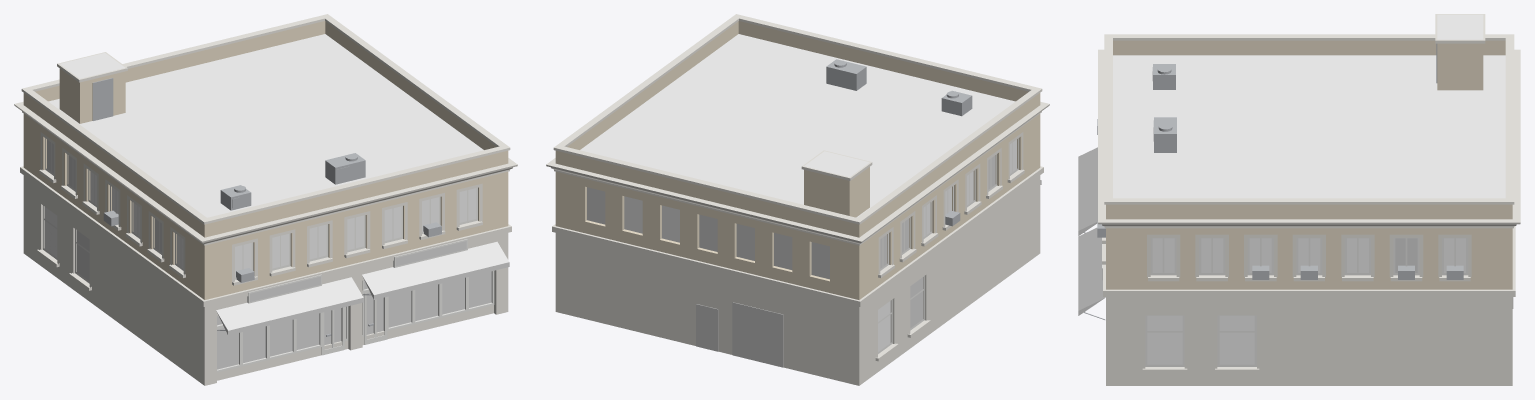
Rendered from midtown_w60f1b.glb.
3 renders of one model, left to right at view 1: azimuth 30°, elevation 25°; view 2: azimuth 150°, elevation 25°; view 3: azimuth 270°, elevation 25°, orthographic. The views are drawn at different scales.
Visible parts, largest first — view 1: midtown_w60f1b_Roof, midtown_w60f1b_Trim, midtown_w60f1b_Walls, midtown_w60f1b_WindowsLit, midtown_w60f1b_Awning, midtown_w60f1b_Frames, midtown_w60f1b_Glass, midtown_w60f1b_Details, midtown_w60f1b_Sign; view 2: midtown_w60f1b_Trim, midtown_w60f1b_Roof, midtown_w60f1b_Walls, midtown_w60f1b_WindowsLit, midtown_w60f1b_Doors, midtown_w60f1b_Glass, midtown_w60f1b_Details, midtown_w60f1b_Frames; view 3: midtown_w60f1b_Trim, midtown_w60f1b_Roof, midtown_w60f1b_Walls, midtown_w60f1b_Glass, midtown_w60f1b_Frames, midtown_w60f1b_Awning, midtown_w60f1b_Details, midtown_w60f1b_WindowsLit.
Boxes of the visible parts, x1,y1,x2,y2 form: midtown_w60f1b_Roof: (48, 34, 483, 217); midtown_w60f1b_Trim: (14, 14, 517, 385); midtown_w60f1b_Walls: (23, 21, 508, 299); midtown_w60f1b_WindowsLit: (47, 139, 491, 369); midtown_w60f1b_Awning: (216, 241, 509, 335); midtown_w60f1b_Frames: (43, 138, 494, 372); midtown_w60f1b_Glass: (44, 171, 476, 277); midtown_w60f1b_Details: (92, 78, 441, 336); midtown_w60f1b_Sign: (250, 241, 466, 301); midtown_w60f1b_Trim: (546, 14, 1049, 385); midtown_w60f1b_Roof: (580, 34, 1015, 217); midtown_w60f1b_Walls: (555, 21, 1040, 299); midtown_w60f1b_WindowsLit: (587, 155, 995, 328); midtown_w60f1b_Doors: (696, 302, 783, 367); midtown_w60f1b_Glass: (624, 139, 1016, 351); midtown_w60f1b_Details: (826, 59, 972, 226); midtown_w60f1b_Frames: (878, 138, 1018, 353); midtown_w60f1b_Trim: (1098, 14, 1520, 385); midtown_w60f1b_Roof: (1113, 14, 1505, 198); midtown_w60f1b_Walls: (1106, 40, 1512, 289); midtown_w60f1b_Glass: (1147, 238, 1465, 364); midtown_w60f1b_Frames: (1102, 238, 1468, 366); midtown_w60f1b_Awning: (1078, 147, 1105, 315); midtown_w60f1b_Details: (1084, 43, 1463, 319); midtown_w60f1b_WindowsLit: (1395, 238, 1417, 272).
Size of the model in its own units: 62.6 by 36.54 by 67.4.
